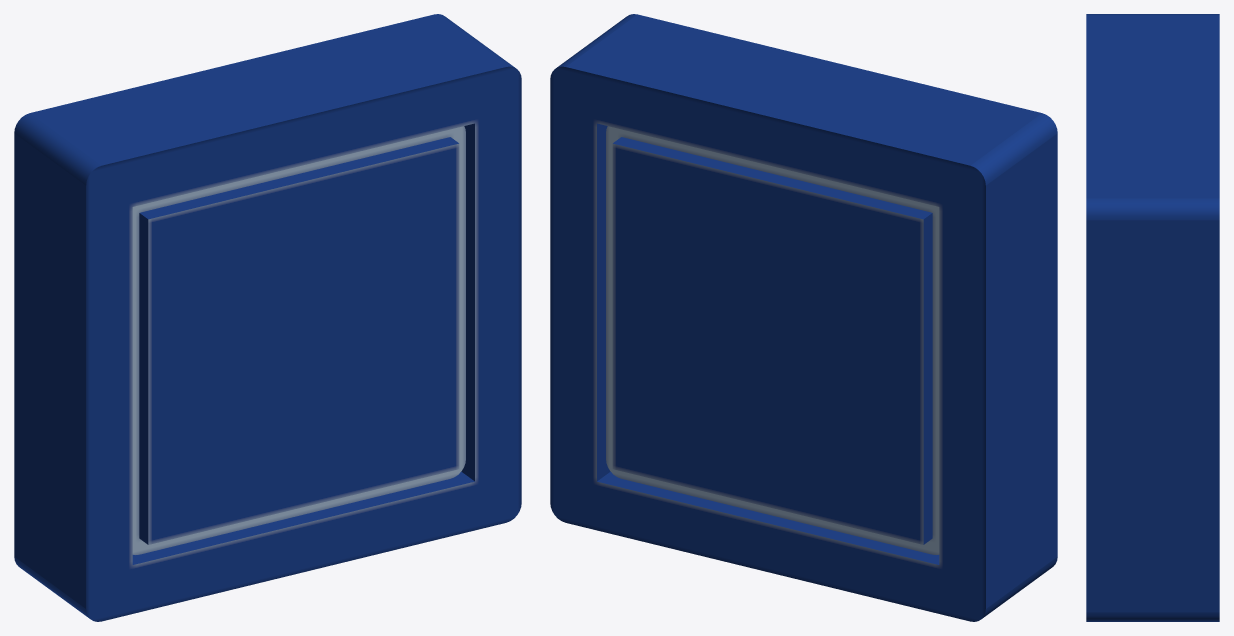
Rendered from CubeTestV2.fbx.
3 renders of one model, left to right at view 1: azimuth 30°, elevation 25°; view 2: azimuth 150°, elevation 25°; view 3: azimuth 270°, elevation 25°, orthographic. The views are drawn at different scales.
Visible parts, largest first — view 1: generated; view 2: generated; view 3: generated.
Part boxes in pixels (x1,y1,x2,y2): generated: [14, 14, 521, 621]; generated: [550, 14, 1057, 621]; generated: [1086, 14, 1219, 621].
Bounding box in the file's own units: 280 × 280 × 80.
1 material, 1 textured.
